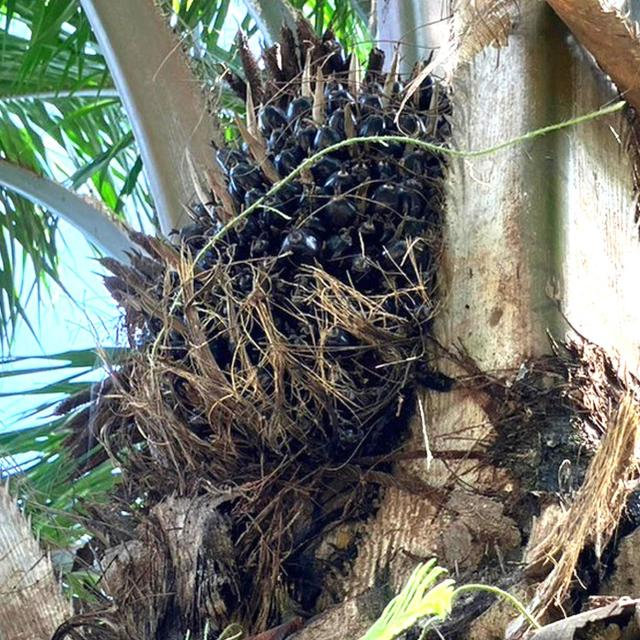unripe: (142, 73, 445, 431)
